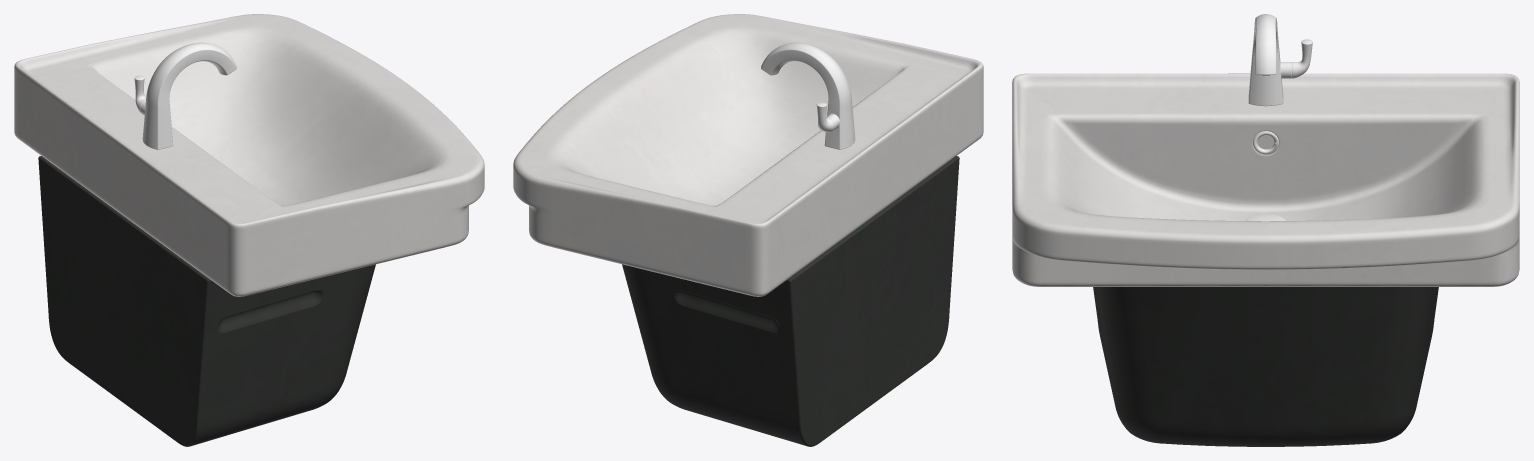
File: sink.glb
The picture shows the model from 3 angles, left to right: view 1: azimuth 30°, elevation 25°; view 2: azimuth 150°, elevation 25°; view 3: azimuth 270°, elevation 25°; orthographic projection. The views are drawn at different scales.
Visible parts, largest first — view 1: sink_01_mesh_00; view 2: sink_01_mesh_00; view 3: sink_01_mesh_00.
Boxes of the visible parts, x1,y1,x2,y2 form: sink_01_mesh_00: (14, 14, 484, 446); sink_01_mesh_00: (513, 14, 983, 446); sink_01_mesh_00: (1012, 14, 1519, 446).
Size of the model in its own units: 0.5137 by 0.5843 by 0.7.
Materials: 4 (3 with a texture image).
